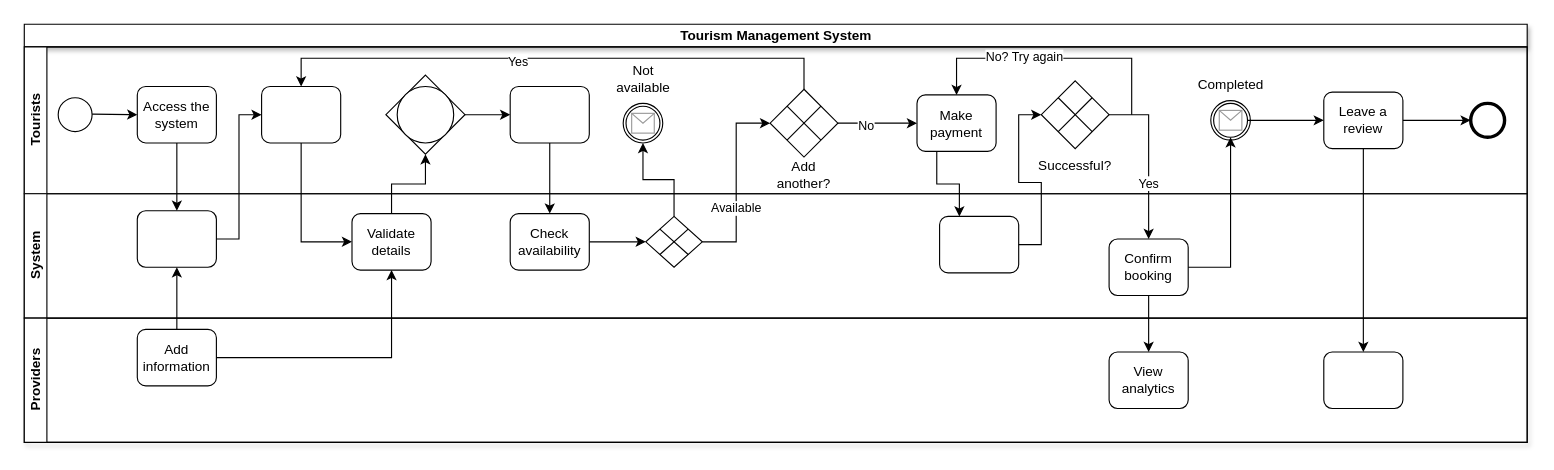
Image size: 1554x470. Some labels were removed from this diagram. Here are the shapes that lost their labels. From the top down, the centre of each, then its label:
the point at 300,114: See information
the point at 425,114: Select a service
the point at 549,114: Book a service
the point at 176,238: Display information
the point at 978,244: Proccess payment
the point at 1363,379: View reviews
